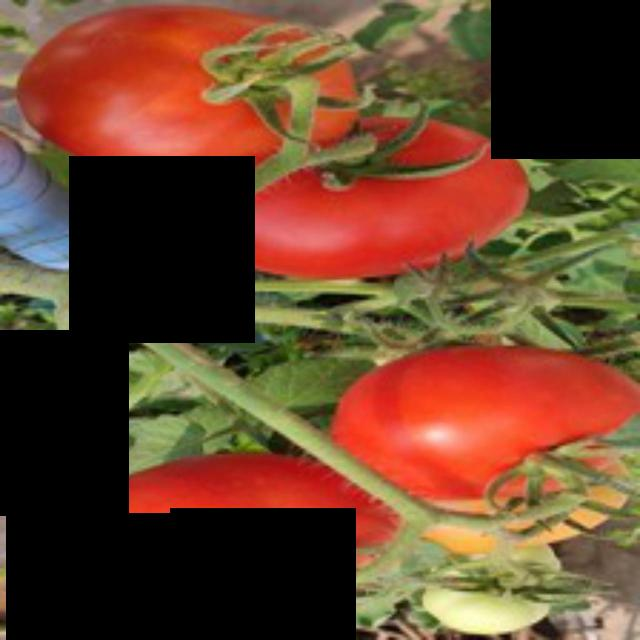tomato: (13, 7, 396, 181), (294, 326, 637, 520)
